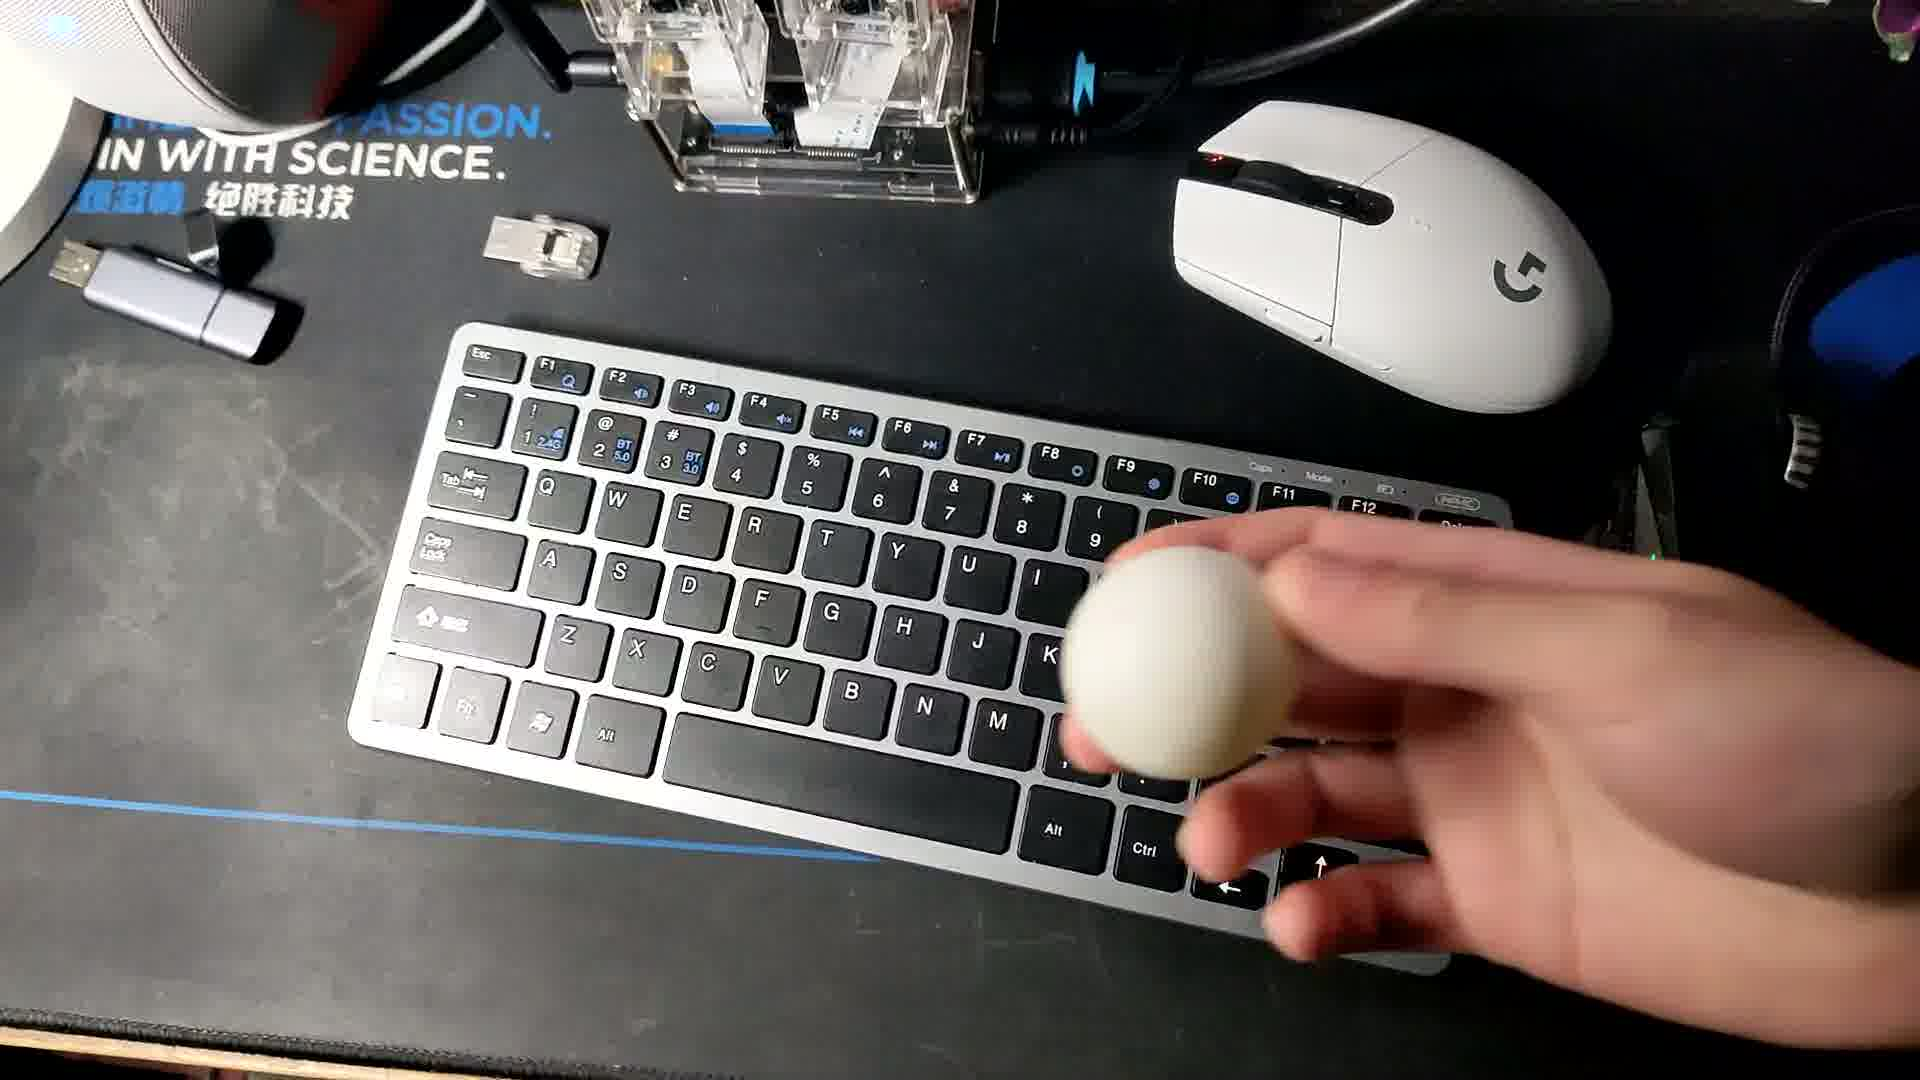Ball: (1055, 547, 1303, 789)
